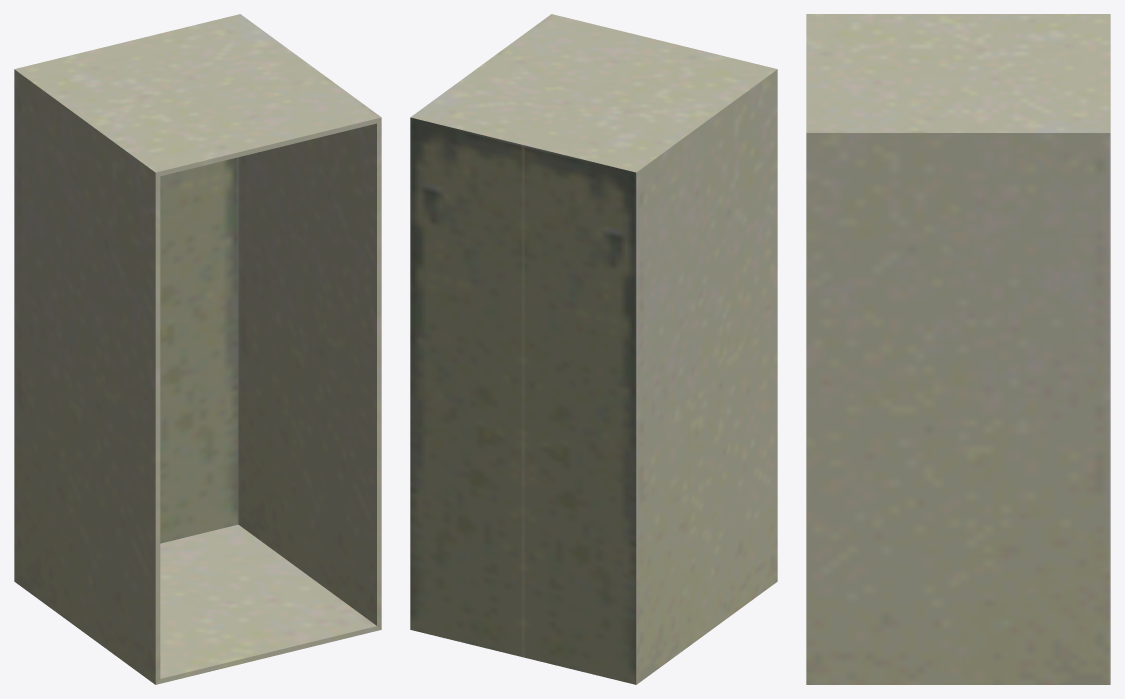
The model's file is file_cabinet_smaller_open.fbx.
3 views of the same model, side by side, from view 1: azimuth 30°, elevation 25°; view 2: azimuth 150°, elevation 25°; view 3: azimuth 270°, elevation 25° (orthographic). The views are drawn at different scales.
Parts seen in each view (by area): view 1: file_cabinet_smaller_open; view 2: file_cabinet_smaller_open; view 3: file_cabinet_smaller_open.
Boxes of the visible parts, <box> form: file_cabinet_smaller_open: <box>14,14,381,684</box>; file_cabinet_smaller_open: <box>410,14,777,684</box>; file_cabinet_smaller_open: <box>806,14,1110,684</box>.
Size of the model in its own units: 48.47 by 105 by 52.46.
1 material, 1 textured.
